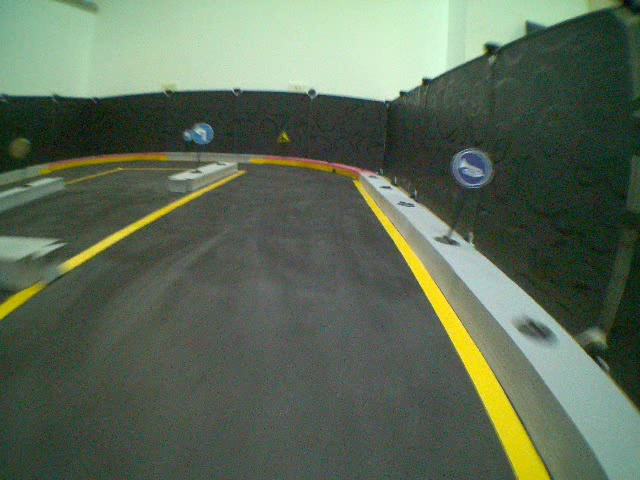fast: (277, 131, 291, 144)
horn: (452, 147, 495, 187)
turn: (192, 123, 214, 144)
